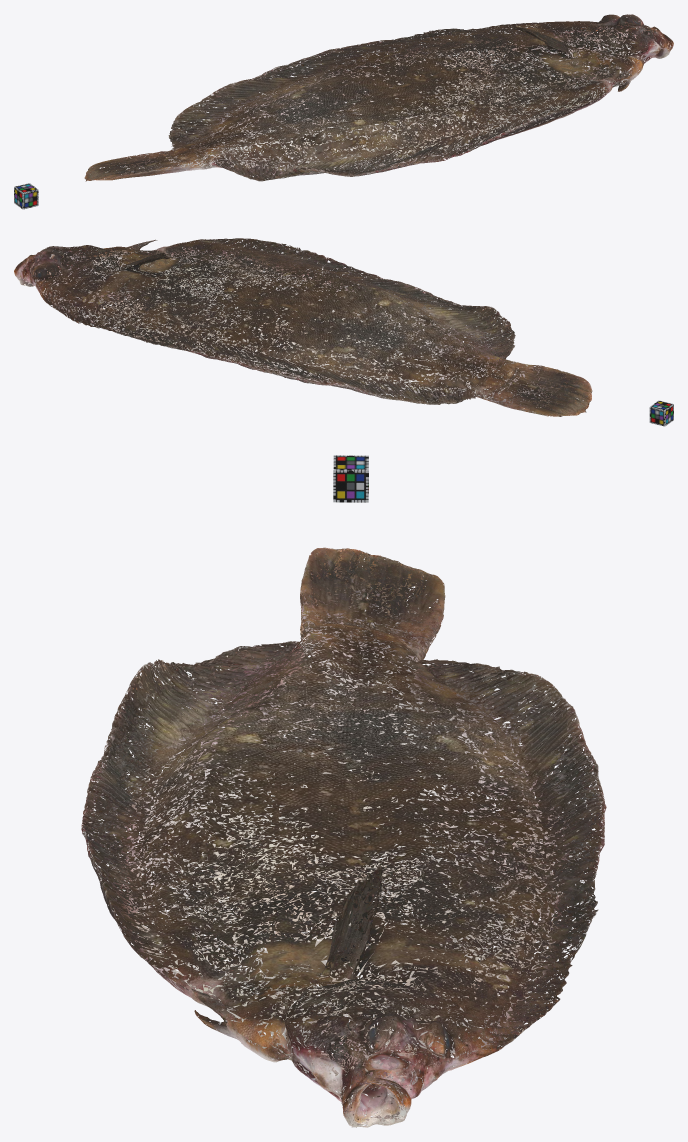
The model's file is scan_slimeflounder.glb.
The picture shows the model from 3 angles, top to bottom: view 1: azimuth 30°, elevation 25°; view 2: azimuth 150°, elevation 25°; view 3: azimuth 270°, elevation 25°; orthographic projection. The views are drawn at different scales.
Parts seen in each view (by area): view 1: Object_6, Object_21, Object_14, Object_4; view 2: Object_6, Object_14, Object_21, Object_4; view 3: Object_6, Object_14, Object_21, Object_4.
Boxes of the visible parts, left/top/right/bottom form: Object_6: left=87, top=20, right=672, bottom=180; Object_21: left=86, top=14, right=673, bottom=180; Object_14: left=84, top=14, right=673, bottom=181; Object_4: left=14, top=183, right=38, bottom=209; Object_6: left=15, top=239, right=590, bottom=416; Object_14: left=15, top=238, right=592, bottom=416; Object_21: left=14, top=238, right=591, bottom=416; Object_4: left=649, top=400, right=673, bottom=426; Object_6: left=82, top=549, right=604, bottom=1124; Object_14: left=82, top=547, right=606, bottom=1125; Object_21: left=81, top=548, right=606, bottom=1127; Object_4: left=333, top=455, right=368, bottom=502.
Bounding box in the file's own units: 18.79 × 2.19 × 6.63.
4 materials, 4 textured.
